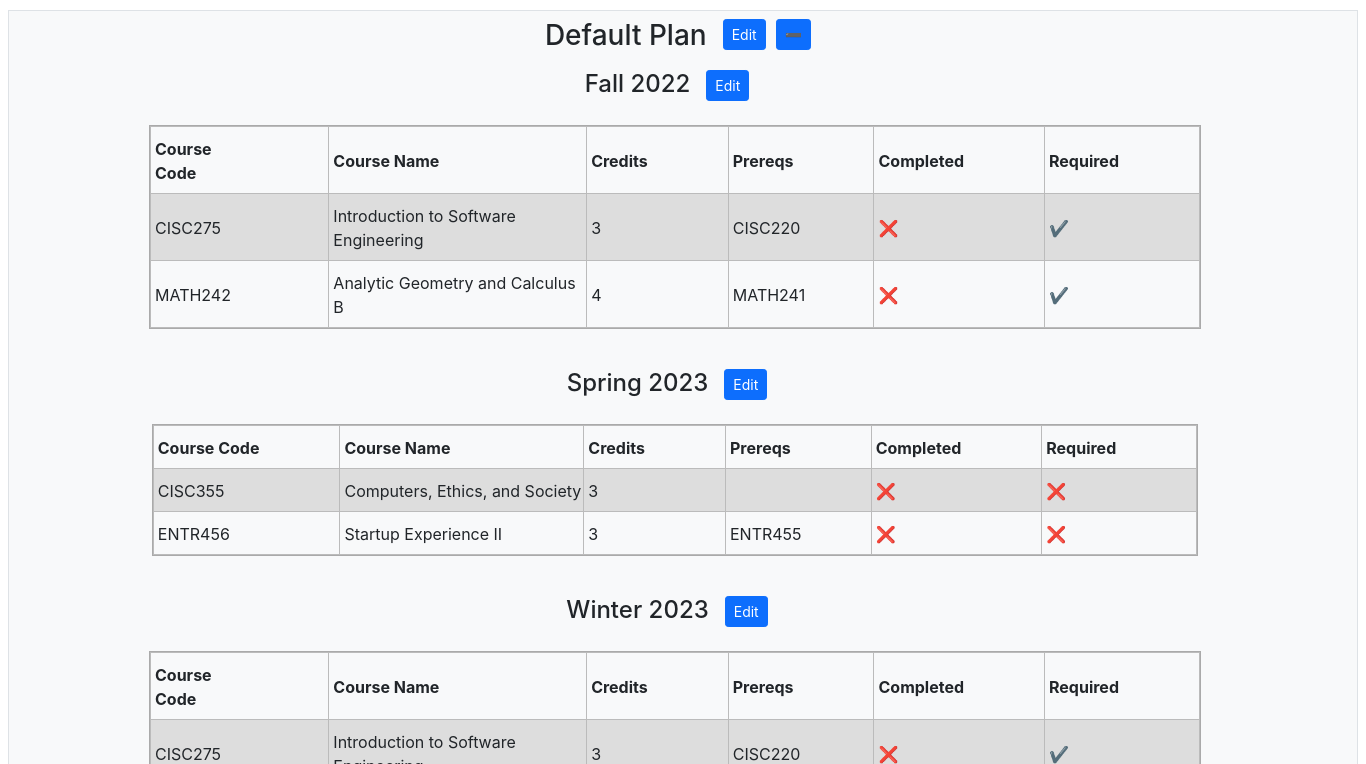
Test: Edit, Add, and Remove Courses Tests › tesing add a course
(page scrolled)
# changing spring2023
Click the 2nd button with test id "edit": coordinates (746, 385) [724,369,767,400]
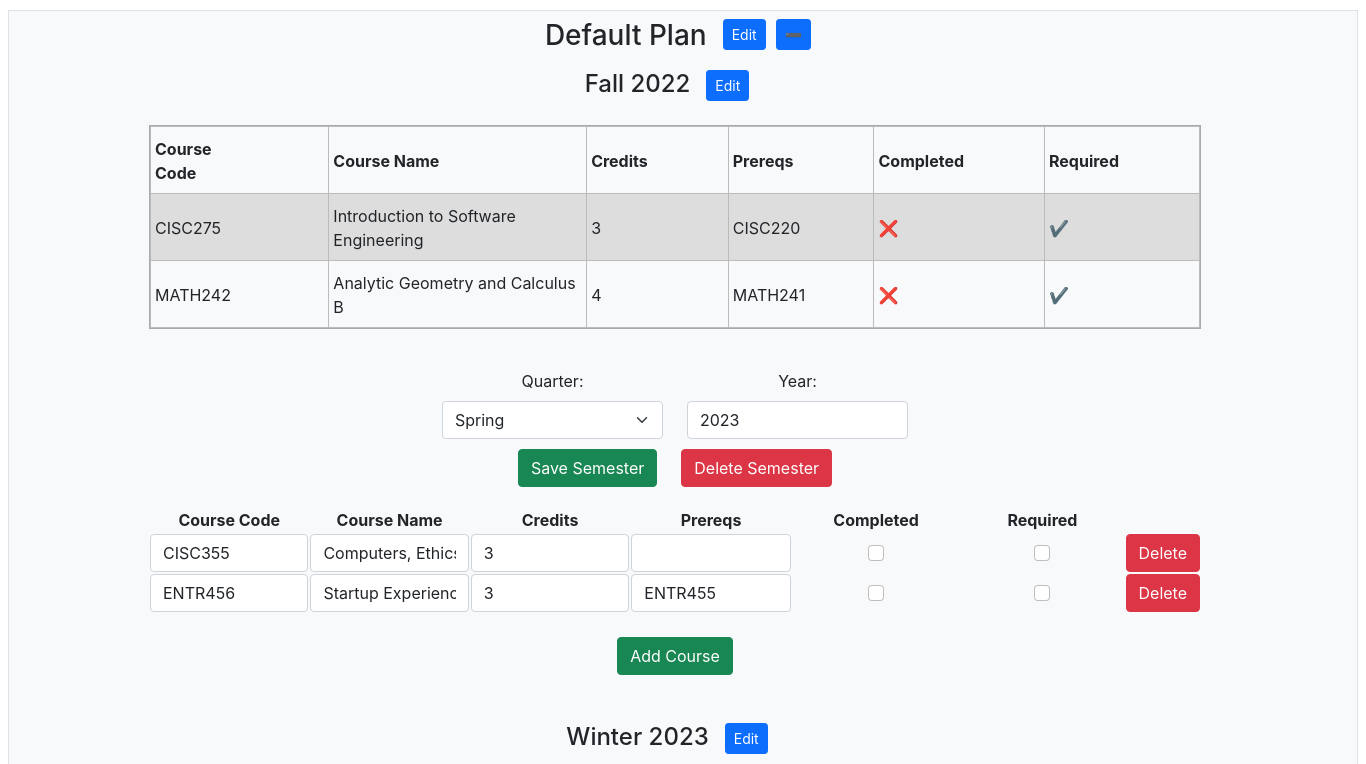
# adding blank course
Click the button with test id "add-course": coordinates (675, 656) [617,637,733,675]
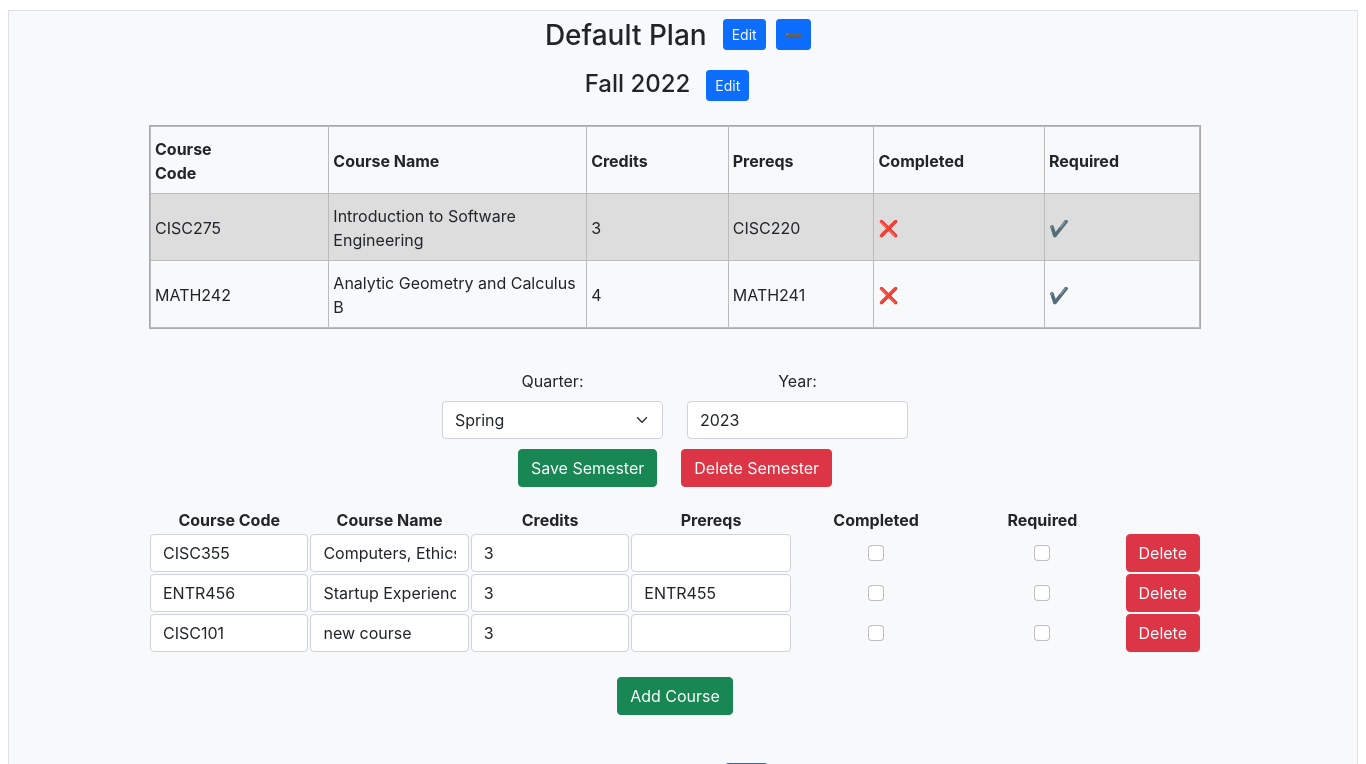
# saving semester
Click the button with test id "save-semester": coordinates (588, 468) [518,449,657,487]
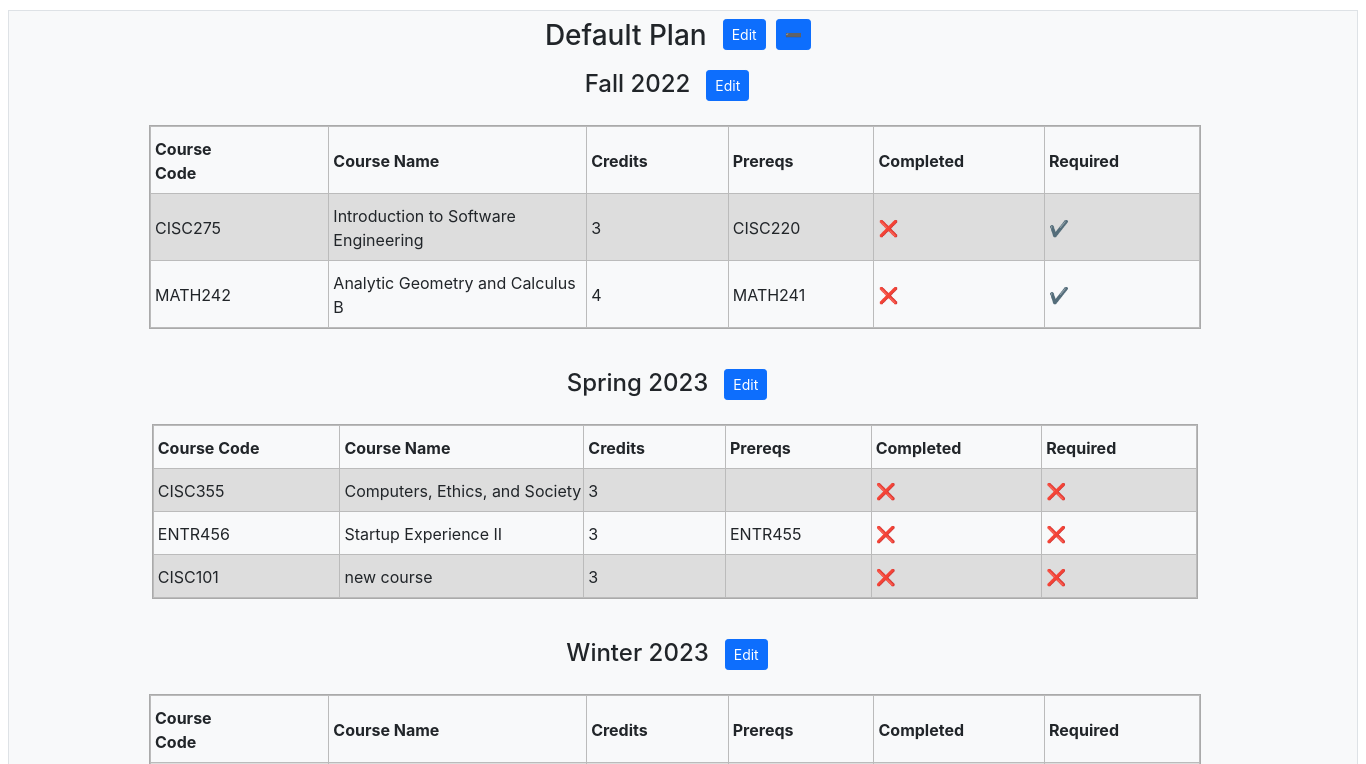
expect the text "new course" is shown: met, box [340,555,584,598]
